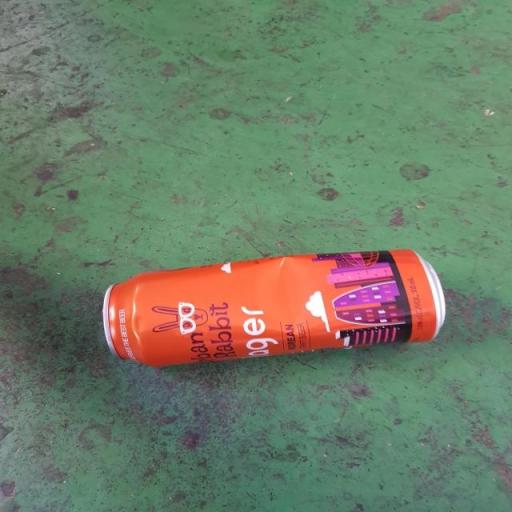metal: (35, 243, 474, 387)
